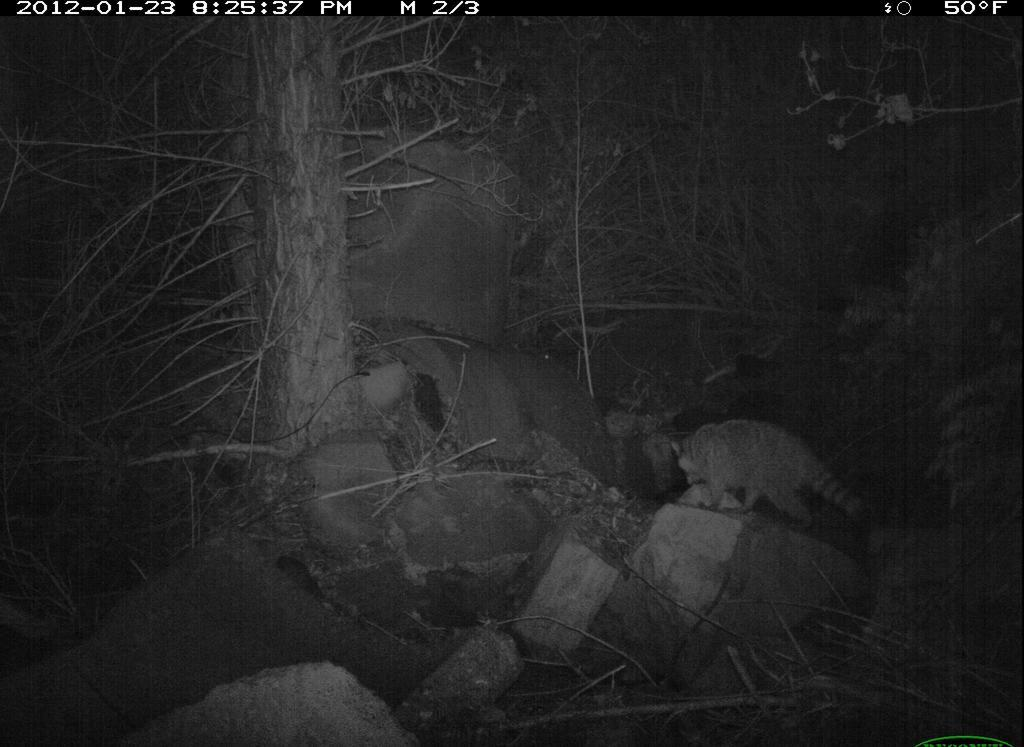raccoon: (661, 408, 873, 539)
